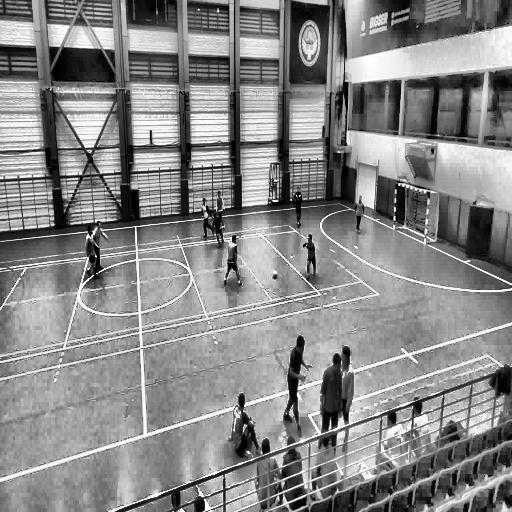ball: (271, 268, 279, 282)
player: (319, 349, 349, 447), (283, 335, 312, 431), (228, 392, 264, 462), (254, 437, 284, 510), (408, 393, 436, 463), (376, 410, 407, 471), (311, 431, 338, 499), (283, 434, 305, 506), (223, 233, 243, 287), (84, 224, 100, 284), (93, 219, 109, 272), (302, 232, 316, 281), (201, 197, 216, 239), (211, 208, 225, 250), (214, 187, 226, 230), (293, 189, 302, 228), (354, 196, 363, 234)
